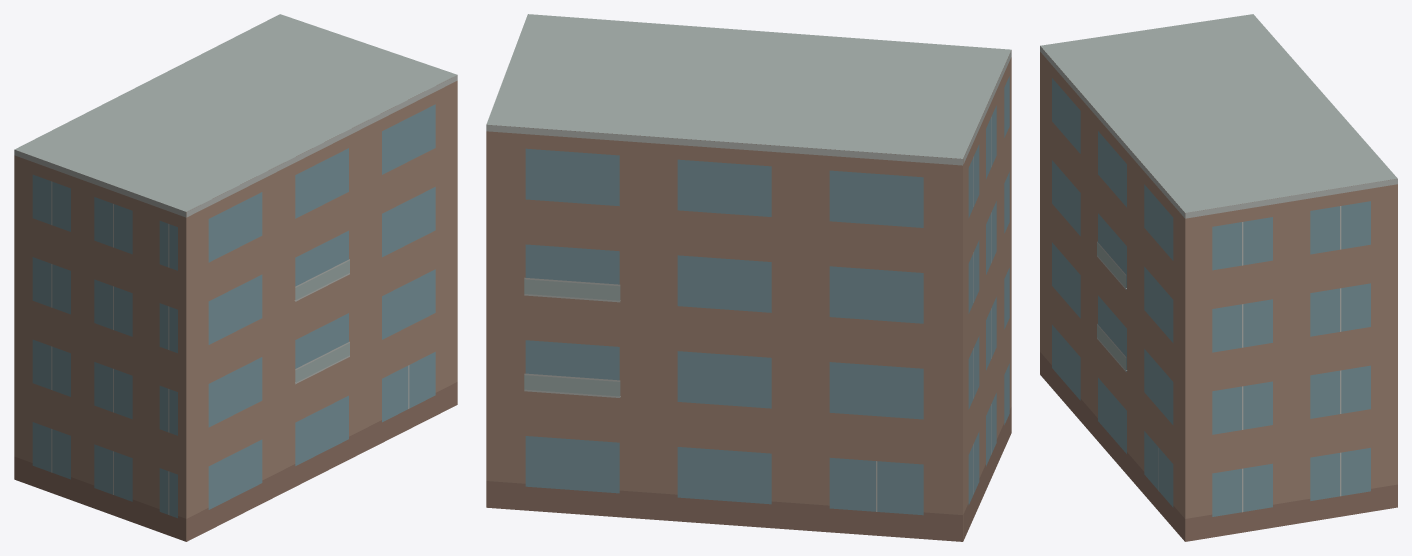
The model's file is survey-upis-32842316.glb.
3 renders of one model, left to right at view 1: azimuth 30°, elevation 25°; view 2: azimuth 150°, elevation 25°; view 3: azimuth 270°, elevation 25°, orthographic. The views are drawn at different scales.
Parts seen in each view (by area): view 1: survey-upis-32842316.tmp; view 2: survey-upis-32842316.tmp; view 3: survey-upis-32842316.tmp.
Part boxes in pixels (left/top/right/bottom): survey-upis-32842316.tmp: left=14, top=14, right=457, bottom=541; survey-upis-32842316.tmp: left=486, top=14, right=1011, bottom=541; survey-upis-32842316.tmp: left=1040, top=14, right=1397, bottom=541.
Size of the model in its own units: 18.31 by 14.1 by 13.91.
